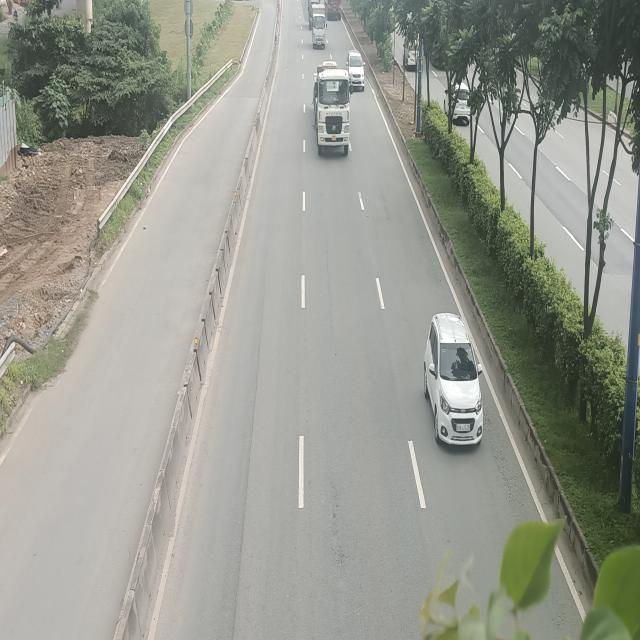car: (426, 312, 485, 446), (347, 51, 366, 89)
container: (314, 63, 354, 157)
truck: (311, 2, 328, 49)
